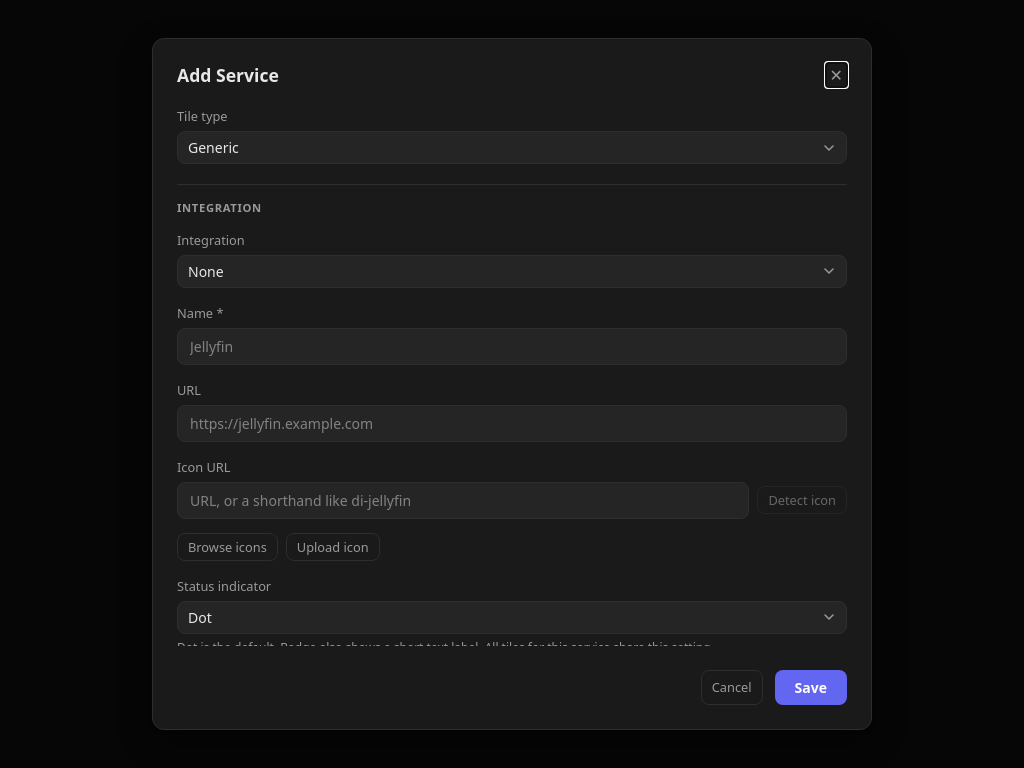
Scenario: ServiceForm – icon detection › shows an error message when the request fails
Type "http://jellyfin.local" into the field labelled "URL" at x=512, y=423, box x1=177 y1=405 x2=847 y2=442
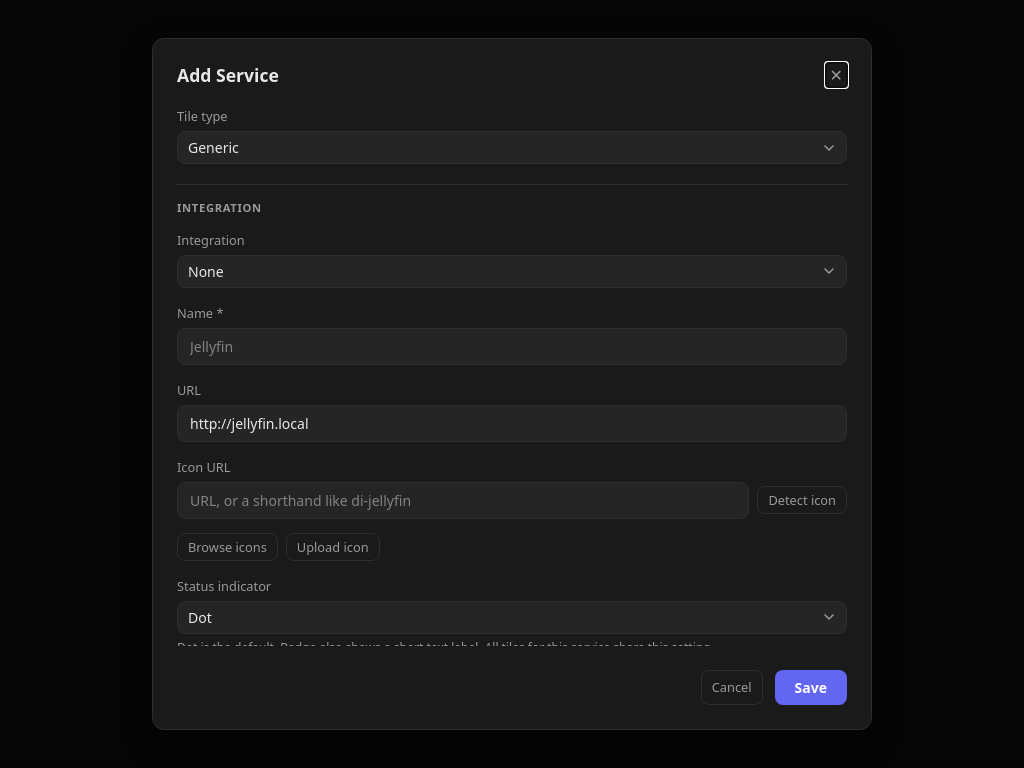
Click the button "Detect icon" at x=802, y=500, box x1=757 y1=486 x2=847 y2=514
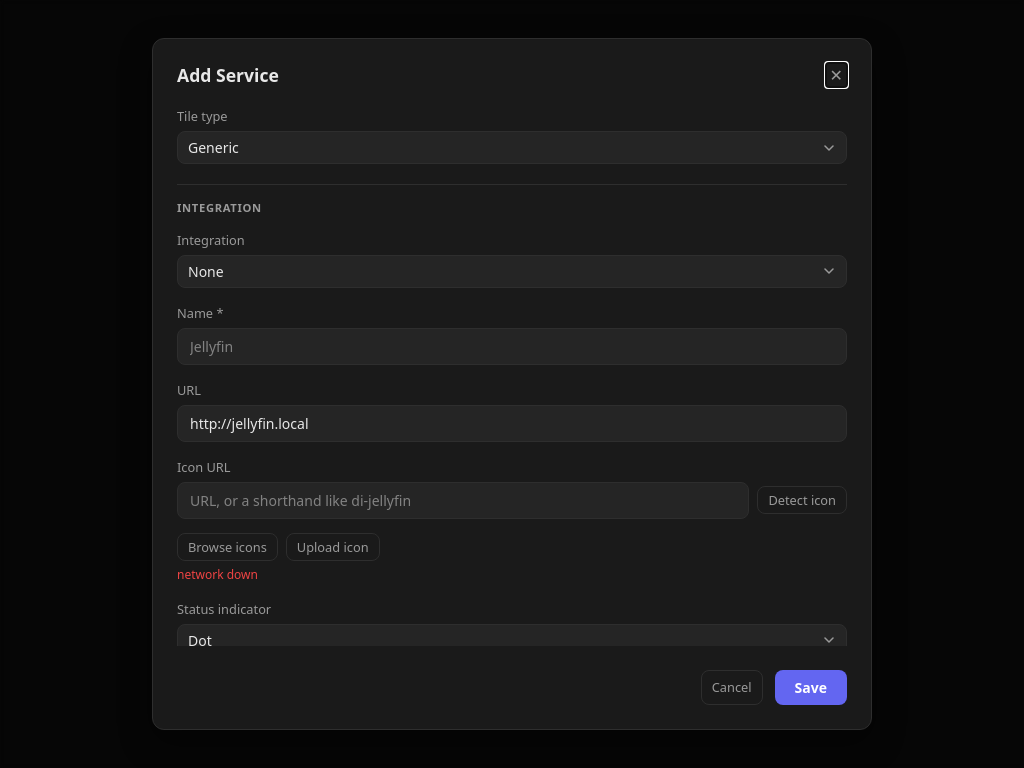
Now the text "network down" is shown, box x1=177 y1=567 x2=258 y2=584
